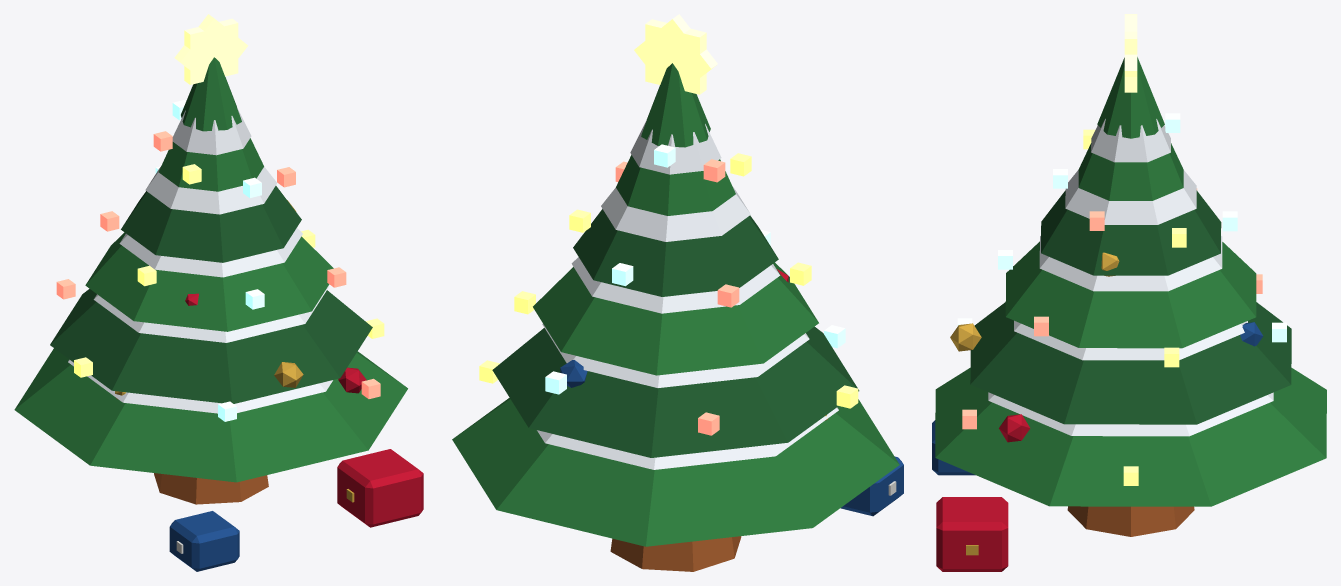
The model's file is christmas_tree.glb.
3 views of the same model, side by side, from view 1: azimuth 30°, elevation 25°; view 2: azimuth 150°, elevation 25°; view 3: azimuth 270°, elevation 25° (orthographic). The views are drawn at different scales.
Visible parts, largest first — view 1: christmas_tree; view 2: christmas_tree; view 3: christmas_tree.
Boxes of the visible parts, x1,y1,x2,y2 form: christmas_tree: (14, 14, 423, 571); christmas_tree: (452, 14, 903, 571); christmas_tree: (932, 14, 1326, 571).
Size of the model in its own units: 1.91 by 2.58 by 1.86.
